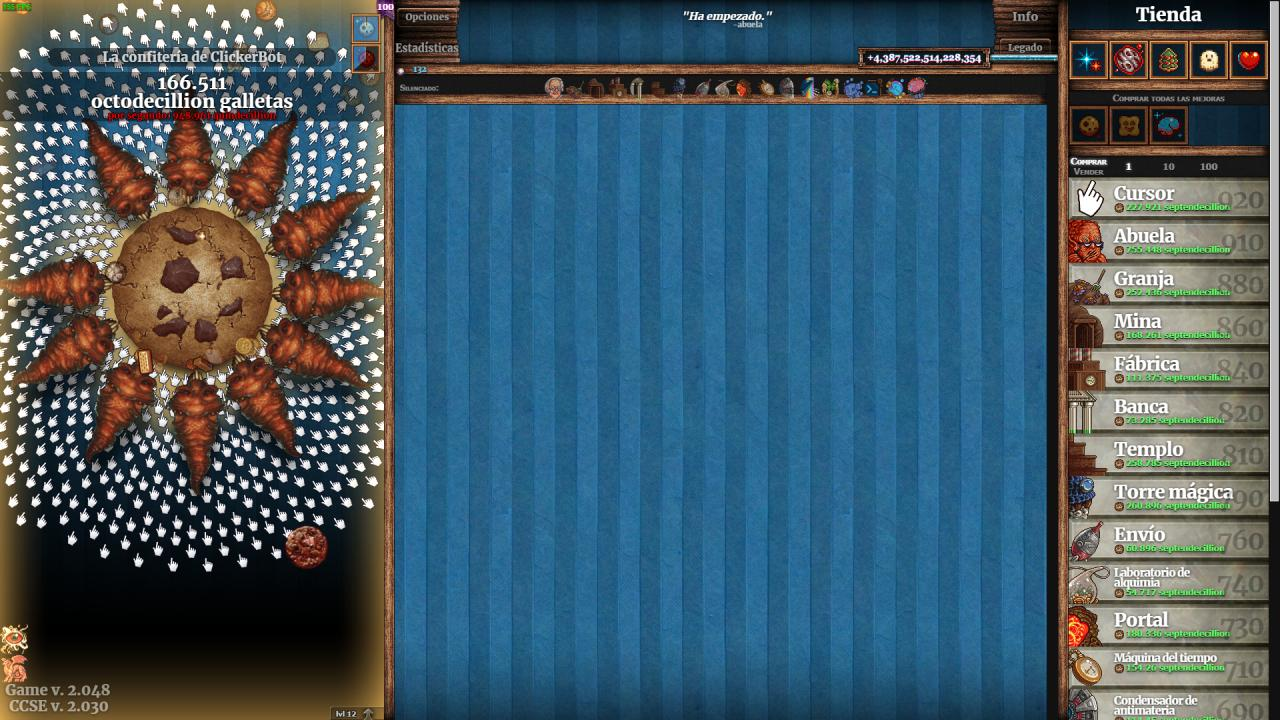RedCookie: (283, 525, 329, 571)
